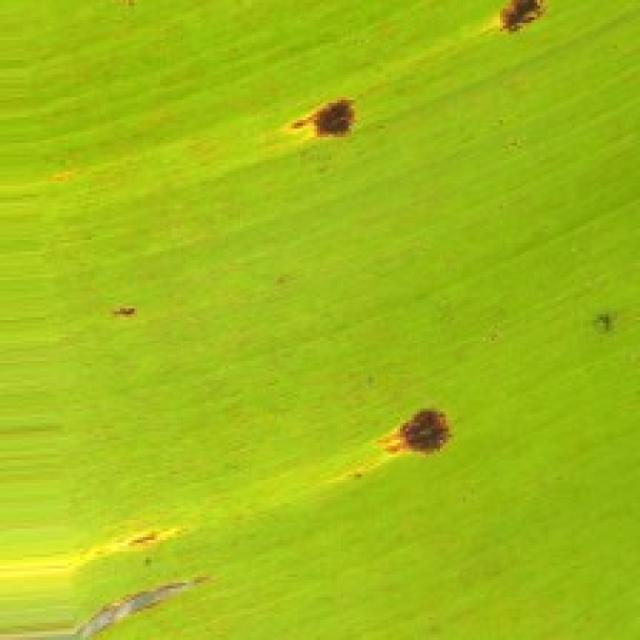Bacterial_spot: (42, 564, 228, 640), (272, 75, 378, 168), (367, 396, 462, 474), (476, 0, 567, 53), (106, 515, 200, 564), (105, 289, 158, 338)
